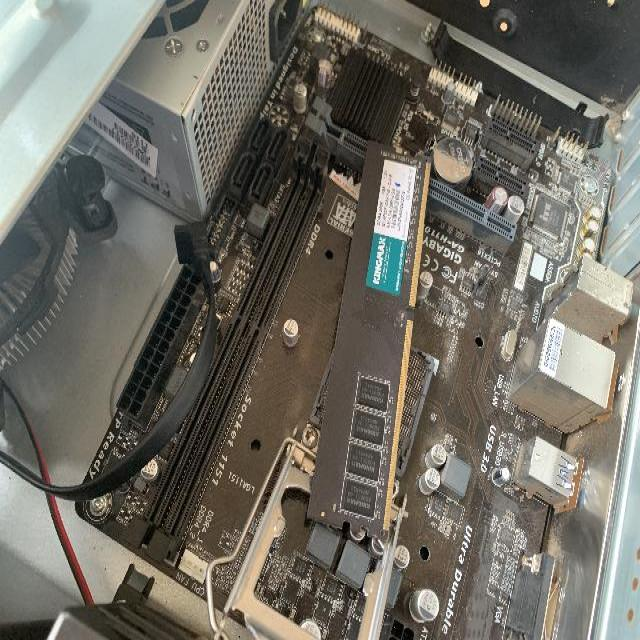Mainboard: (277, 0, 633, 640)
PSU: (54, 0, 303, 221)
RAM: (306, 135, 432, 532)
